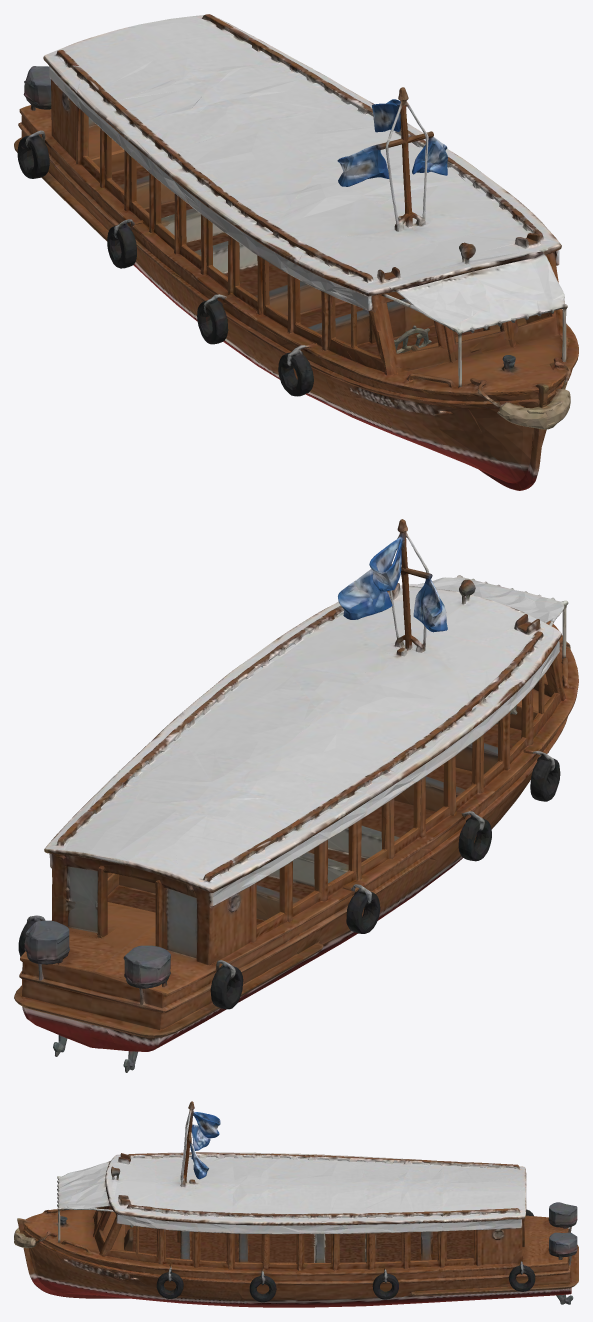
The model's file is lancha-optimized.glb.
The picture shows the model from 3 angles, top to bottom: view 1: azimuth 30°, elevation 25°; view 2: azimuth 150°, elevation 25°; view 3: azimuth 270°, elevation 25°; orthographic projection. The views are drawn at different scales.
Visible parts, largest first — view 1: tripo_node_606f7119-92a2-456a-a615-babf45a1ded3; view 2: tripo_node_606f7119-92a2-456a-a615-babf45a1ded3; view 3: tripo_node_606f7119-92a2-456a-a615-babf45a1ded3.
Part boxes in pixels (x1,y1,x2,y2): tripo_node_606f7119-92a2-456a-a615-babf45a1ded3: (14, 14, 578, 490); tripo_node_606f7119-92a2-456a-a615-babf45a1ded3: (14, 519, 578, 1072); tripo_node_606f7119-92a2-456a-a615-babf45a1ded3: (14, 1101, 578, 1307).
Size of the model in its own units: 0.3464 by 0.3843 by 0.9999.
Materials: 1 (1 with a texture image).
